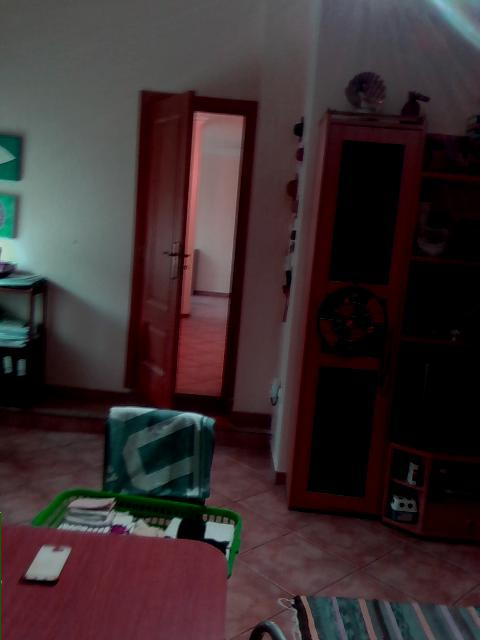semi_door: (120, 86, 260, 416)
